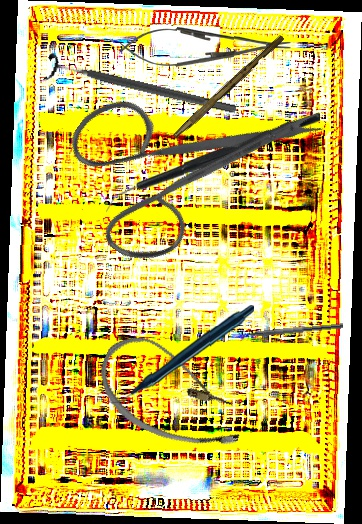Cannula: (85, 326, 261, 464)
Chopper: (104, 112, 322, 215), (232, 316, 344, 340)
Fixation Ring: (43, 51, 239, 125)
Handpiece: (108, 302, 254, 406)
Iris Scissors: (32, 2, 333, 310)
Needle Holder: (119, 25, 292, 69)
Scalpel Handle: (173, 32, 285, 142)
